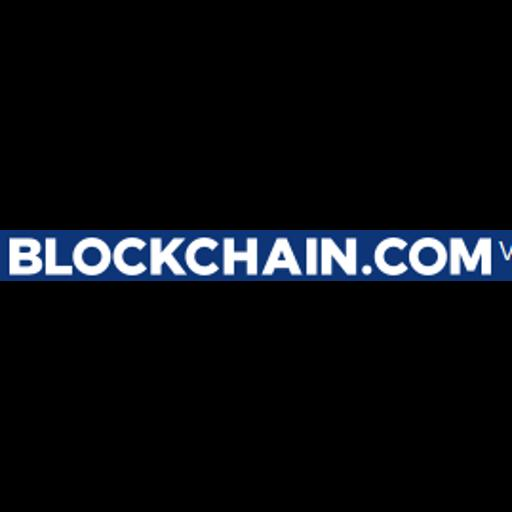Blockchain: (0, 230, 512, 281)
